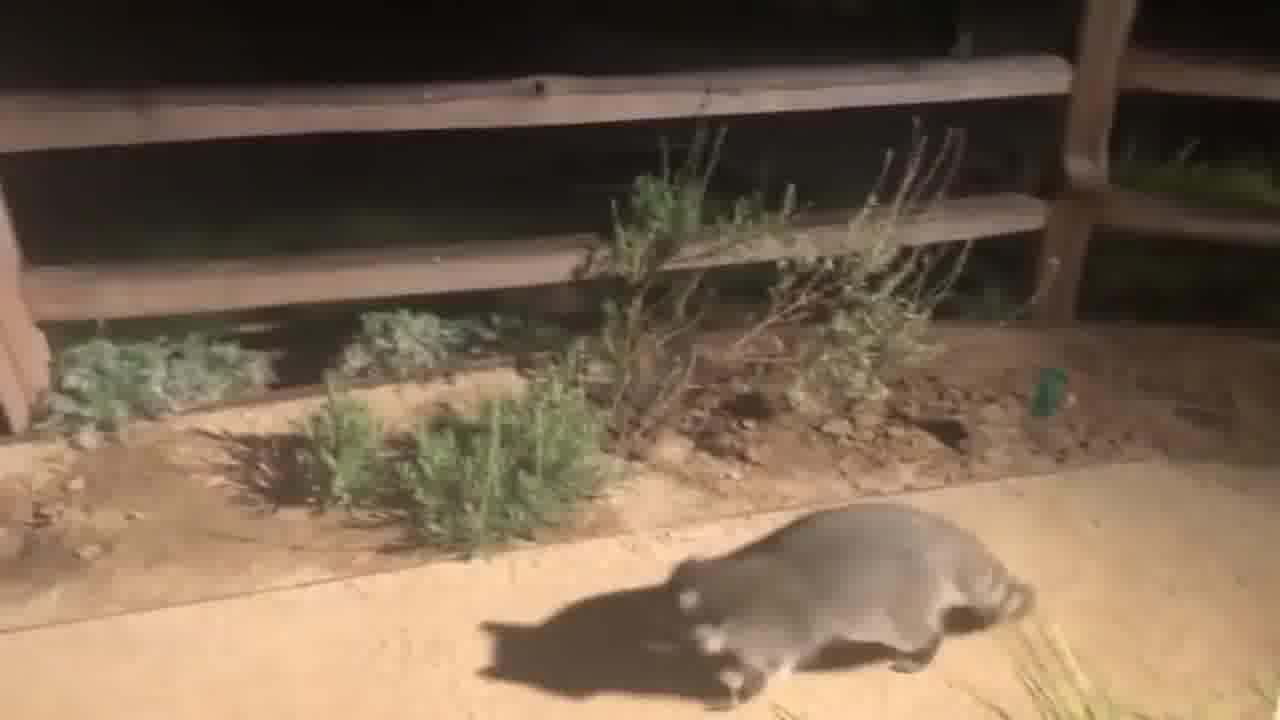raccoon: (645, 494, 1028, 720)
